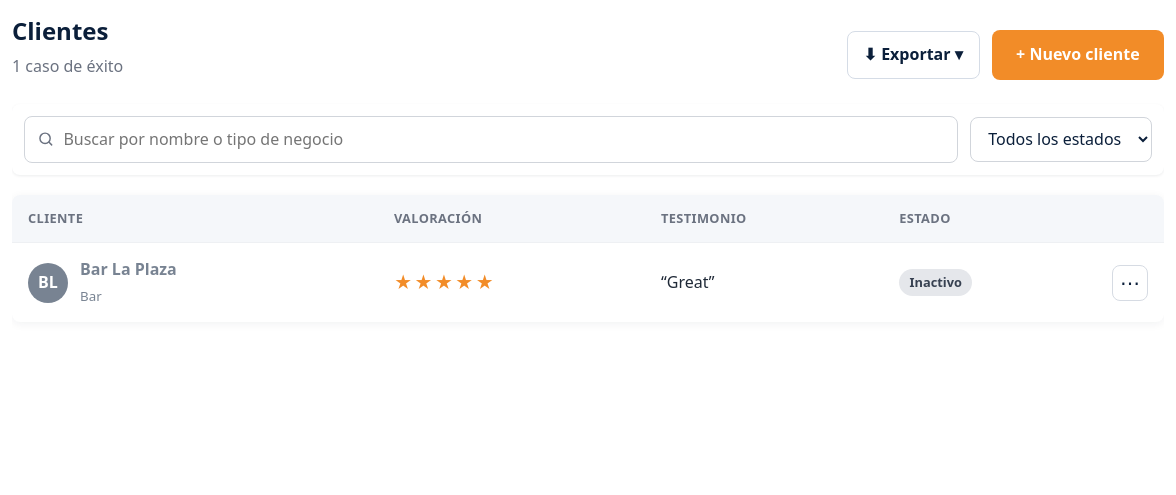
Scenario: admin CRUD screens › Clientes: activates a hidden client
Click the button with test id "row-actions" showing "⋯". click: (1130, 283)
box: x1=1112 y1=265 x2=1148 y2=301
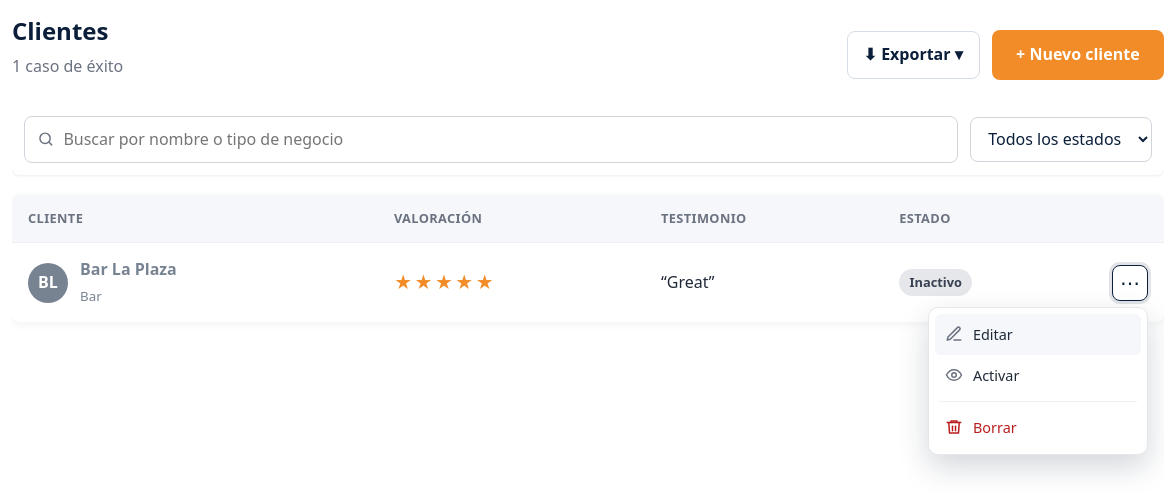
Click the menu item "Activar". click: (1038, 375)
box: x1=935 y1=355 x2=1141 y2=396
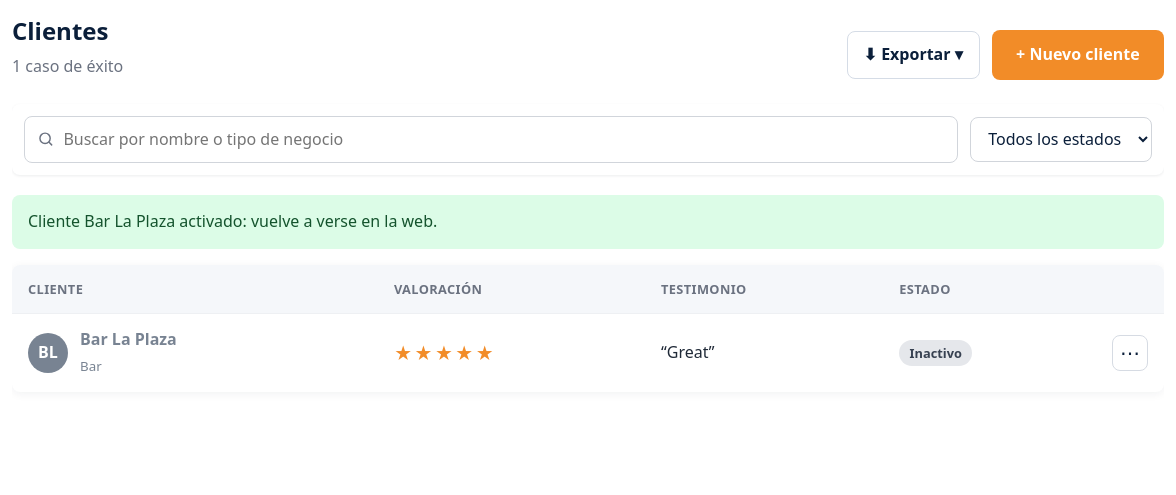
Expected: the message "Cliente Bar La Plaza activado: vuelve a verse en la web." is shown, x1=12 y1=195 x2=1164 y2=249
